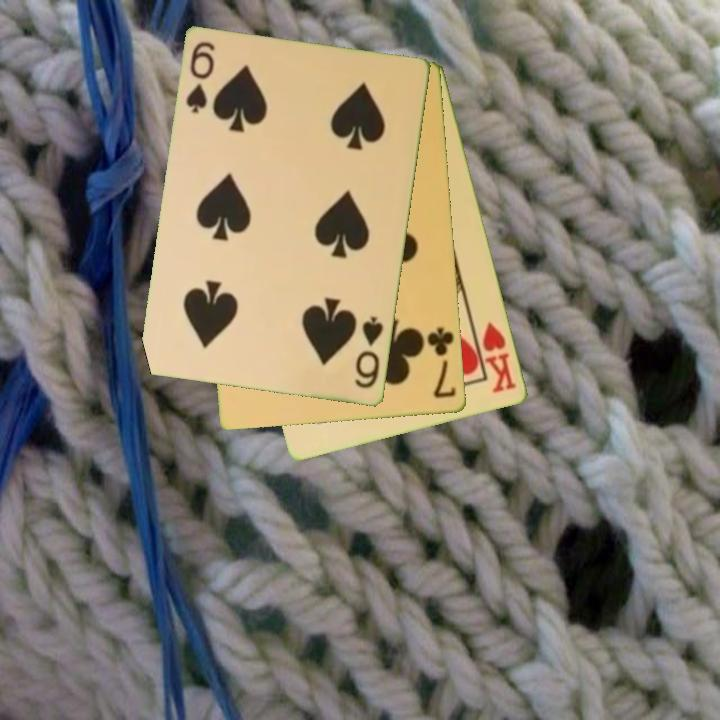6s: (351, 313, 386, 392), (183, 38, 218, 117)
7c: (424, 324, 459, 402)
Kh: (470, 318, 520, 396)
